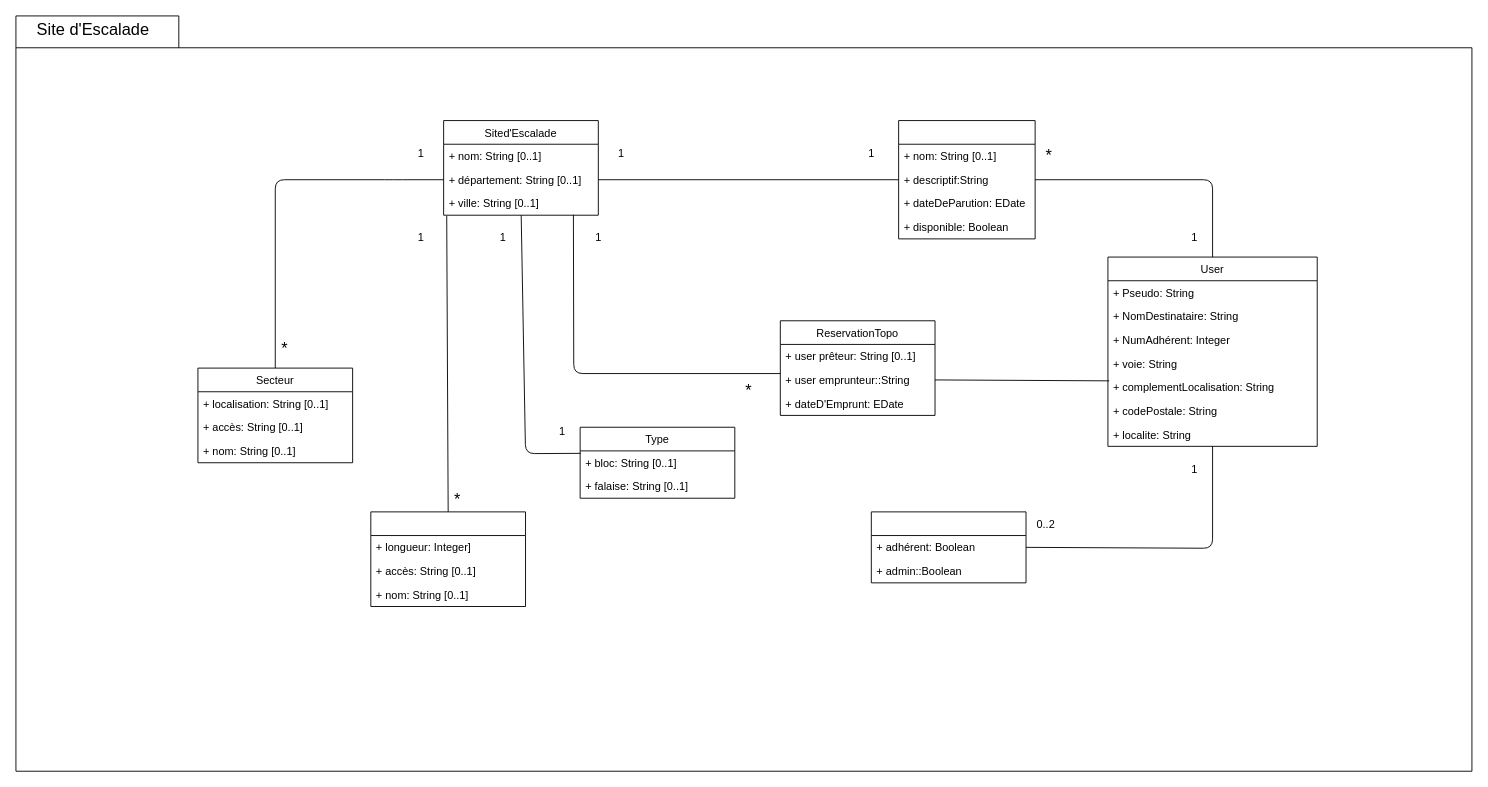
Image size: 1488x787. Some labels were removed from this diagram. Here are the shapes that lost their labels. From the top down, the box of each, then its label:
(898, 120, 1035, 239): Topo
(370, 511, 526, 607): Voie
(870, 511, 1026, 583): Role
